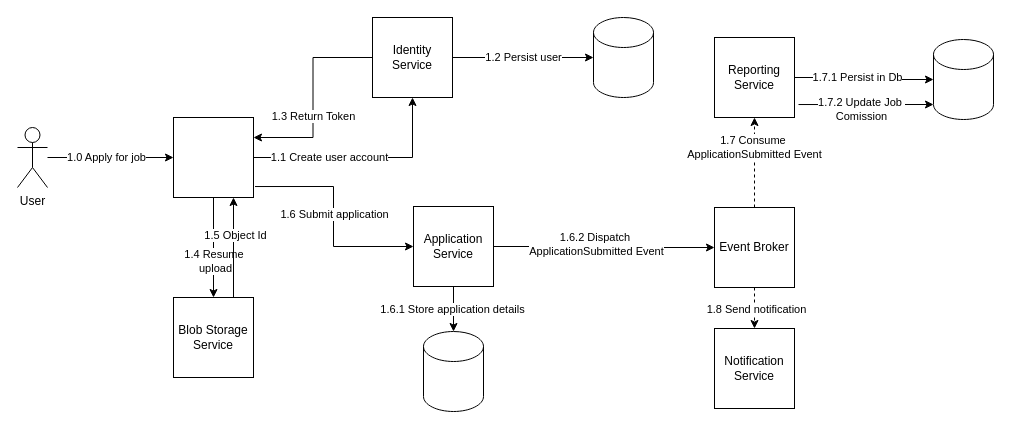
Image size: 1011x429. Some labels were removed from this diagram. The shapes that lost their labels are listed below. From the top down, each one's centre as x and y in pixels, then its label:
point 623,57: Identity Db
point 963,79: Reporting Db
point 213,157: Public App
point 453,371: Applications Db
